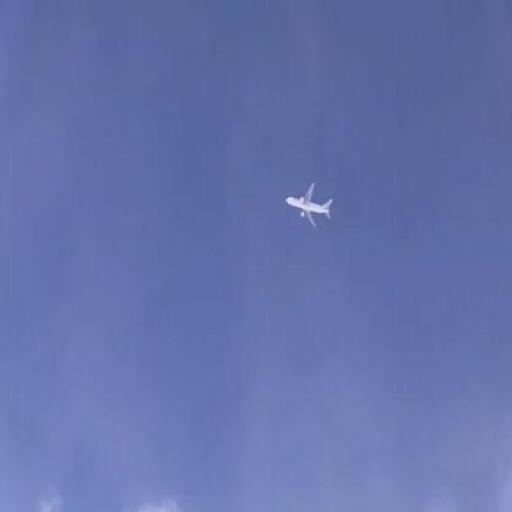aircraft: (286, 185, 334, 230)
